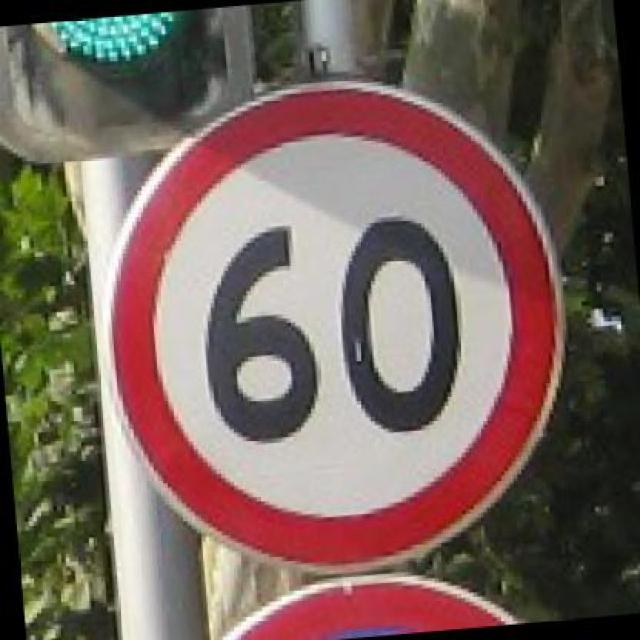Limite-60: (105, 78, 570, 576)
